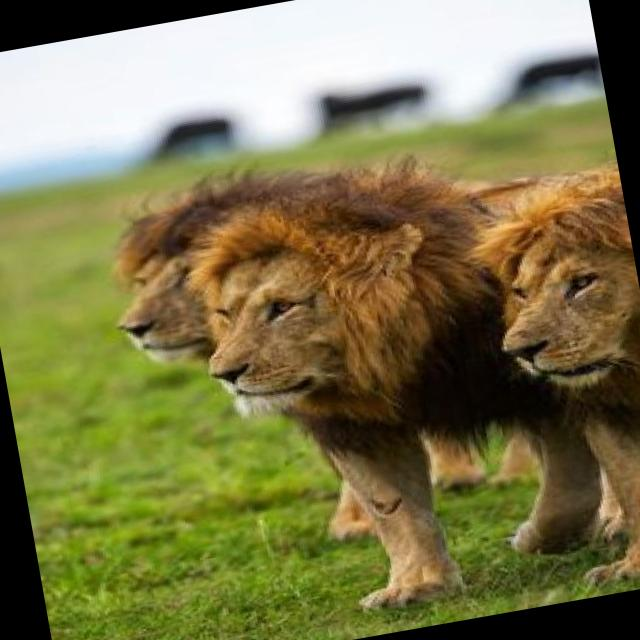lions: (24, 38, 640, 640)
